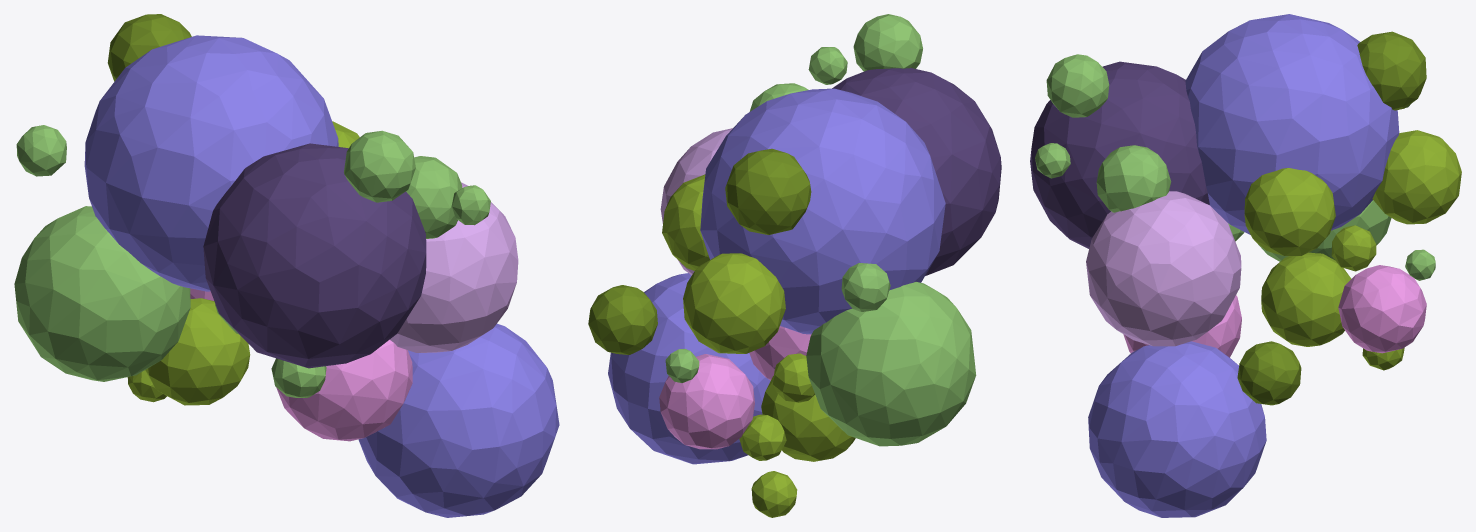
The model's file is tree no 3.fbx.
The picture shows the model from 3 angles, left to right: view 1: azimuth 30°, elevation 25°; view 2: azimuth 150°, elevation 25°; view 3: azimuth 270°, elevation 25°; orthographic projection. The views are drawn at different scales.
Visible parts, largest first — view 1: Sphere.068; view 2: Sphere.068; view 3: Sphere.068.
Boxes of the visible parts, bbox=[...] form: Sphere.068: bbox=[14, 14, 559, 517]; Sphere.068: bbox=[588, 14, 1001, 517]; Sphere.068: bbox=[1030, 14, 1461, 517].
Size of the model in its own units: 313 by 315 by 303.
